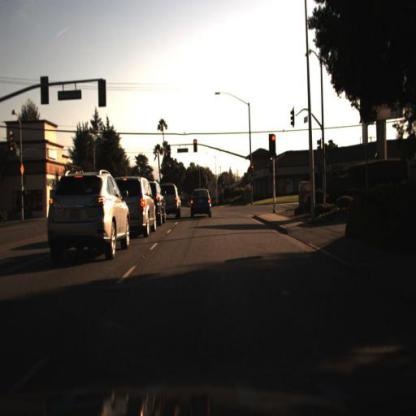car: (46, 162, 133, 268), (126, 172, 156, 242), (187, 184, 216, 225), (167, 184, 181, 221)
trafficLight: (165, 143, 173, 164)
trafficLight-Red: (269, 131, 279, 156), (269, 133, 277, 161), (193, 135, 201, 159), (248, 160, 256, 180)
